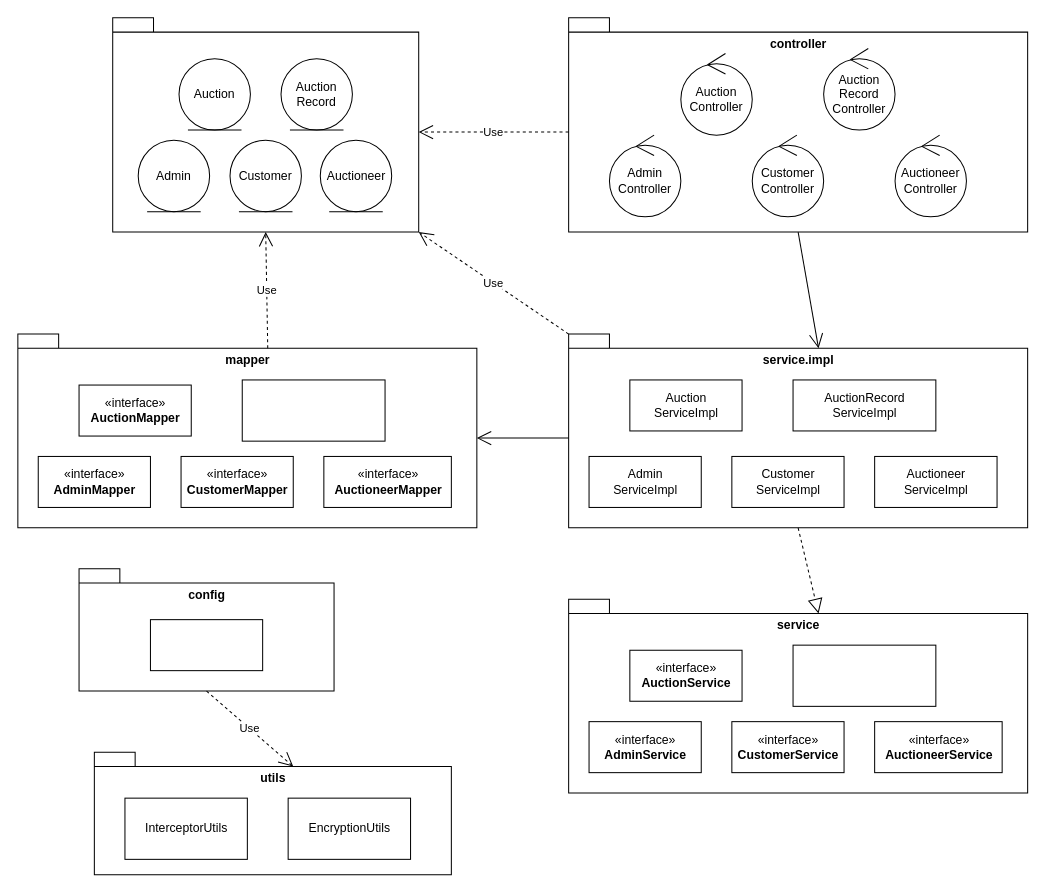
The diagram is 1046 pixels wide and 893 high, and some of its shapes have lost their labels. The shapes that lost their labels are listed below. From the top down, each one's box as (x1, y1, x2, y2) in pixels, then its label:
(112, 17, 419, 232): entity
(241, 379, 385, 441): «interface» AuctionRecord Mapper
(149, 619, 263, 671): WebConfig
(792, 644, 936, 706): «interface» AuctionRecord Service
